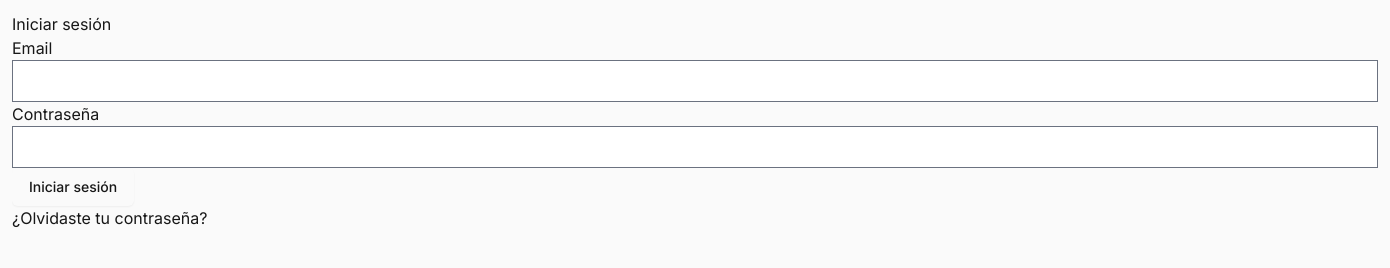
it: LoginPage › shows generic message for network errors
Type "user@example.com" into the field labelled "Email". click: (695, 81)
box: [12,60,1378,102]
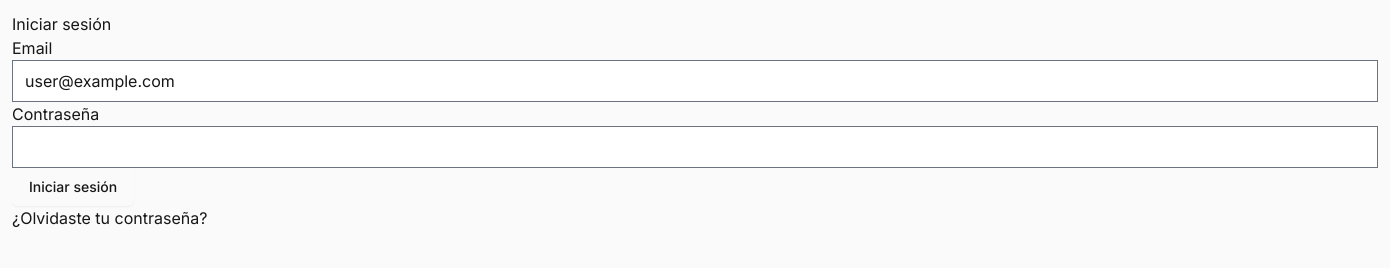
Type "password123" into the password field labelled "Contraseña". click: (695, 147)
box: [12,126,1378,168]
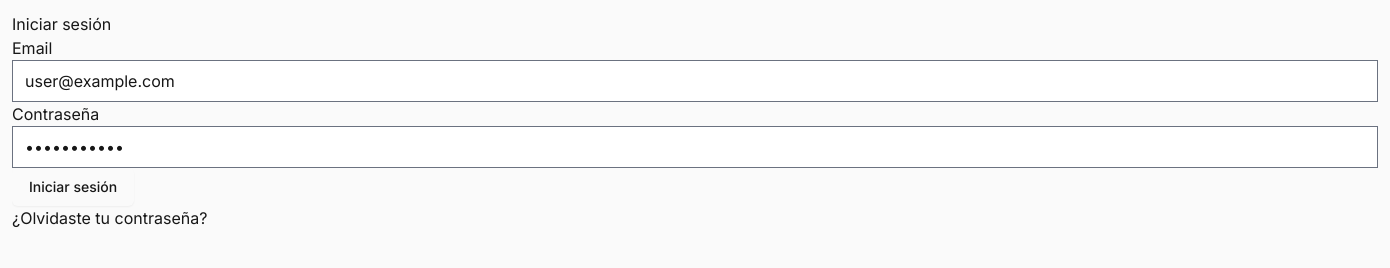
Click the button "Iniciar sesión". click: (73, 187)
box: [12,168,134,206]
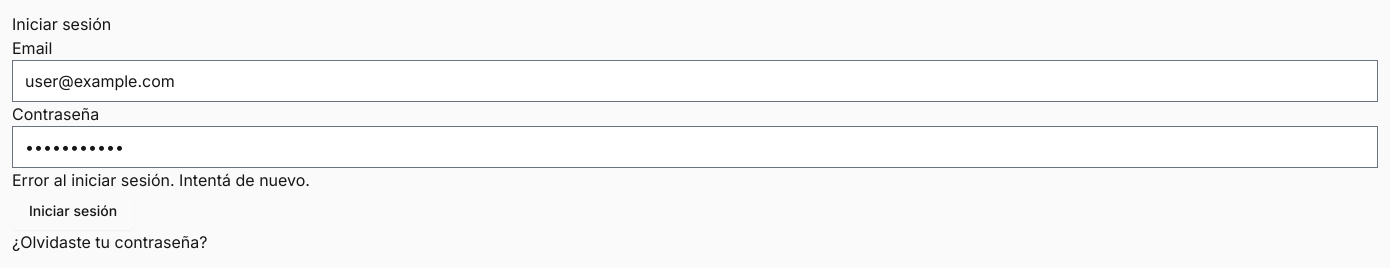
Result: the text "Error al iniciar sesión. Intentá de nuevo." is shown at [12,170,310,190]
